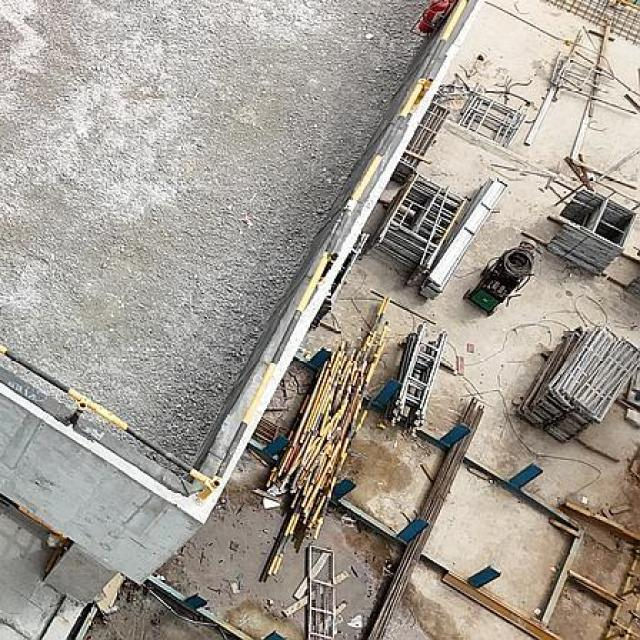Guardrail: (0, 0, 476, 507)
